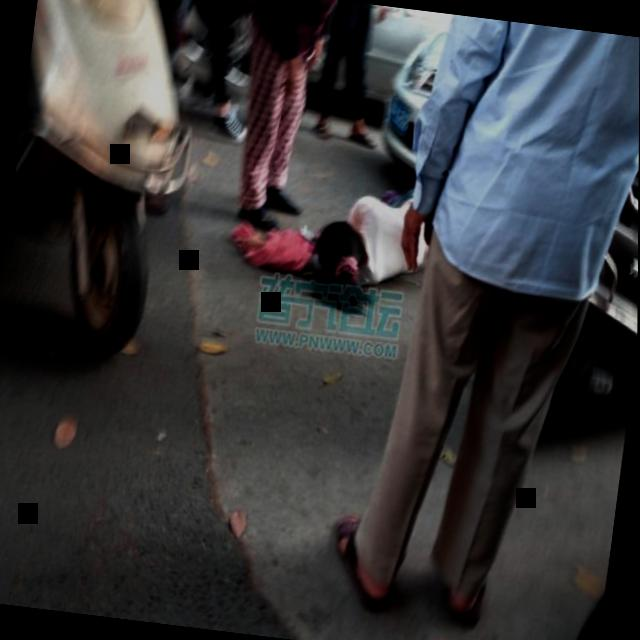Fall-Detected: (223, 143, 453, 306)
